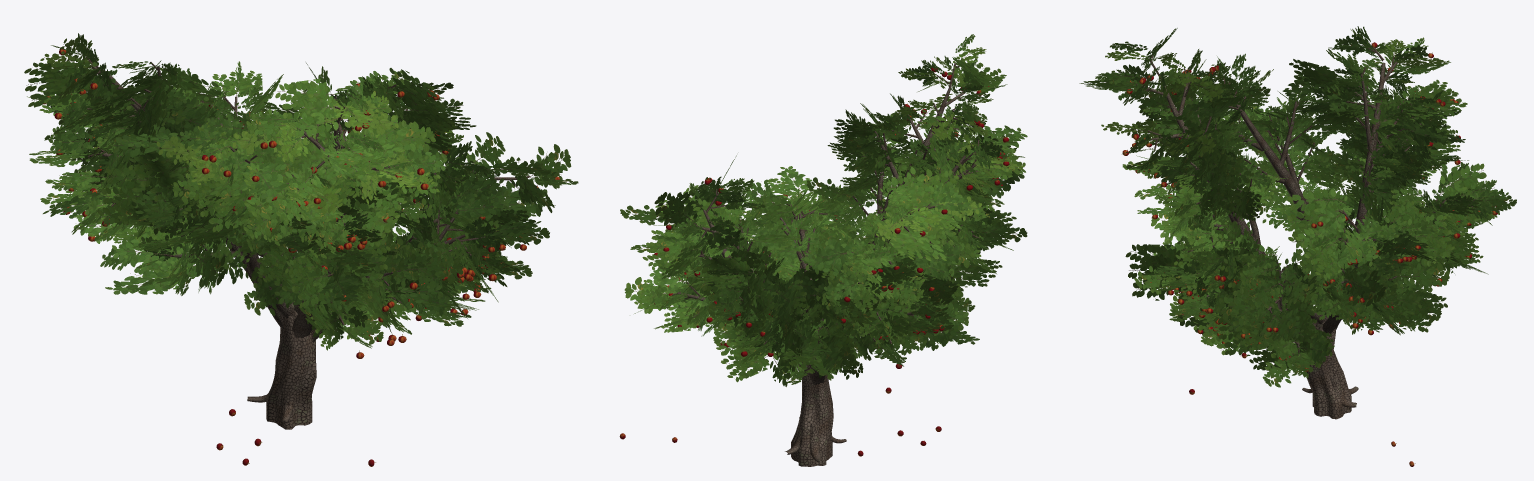
File: apple-tree.glb
3 views of the same model, side by side, from view 1: azimuth 30°, elevation 25°; view 2: azimuth 150°, elevation 25°; view 3: azimuth 270°, elevation 25° (orthographic). The views are drawn at different scales.
Parts seen in each view (by area): view 1: fruit, trunk, branches, apples; view 2: fruit, branches, trunk, apples; view 3: fruit, branches, trunk, apples.
Part boxes in pixels (x1,y1,x2,y2): fruit: [24, 33, 578, 350]; trunk: [247, 284, 316, 429]; branches: [86, 59, 530, 342]; apples: [43, 47, 560, 466]; fruit: [620, 34, 1027, 386]; branches: [672, 63, 984, 384]; trunk: [785, 364, 846, 466]; apples: [619, 67, 1009, 456]; fruit: [1079, 26, 1516, 387]; branches: [1136, 47, 1475, 355]; trunk: [1302, 317, 1358, 419]; apples: [1122, 42, 1497, 466].
Bounding box in the file's own units: 5.88 × 5.13 × 5.71.
4 materials, 4 textured.
